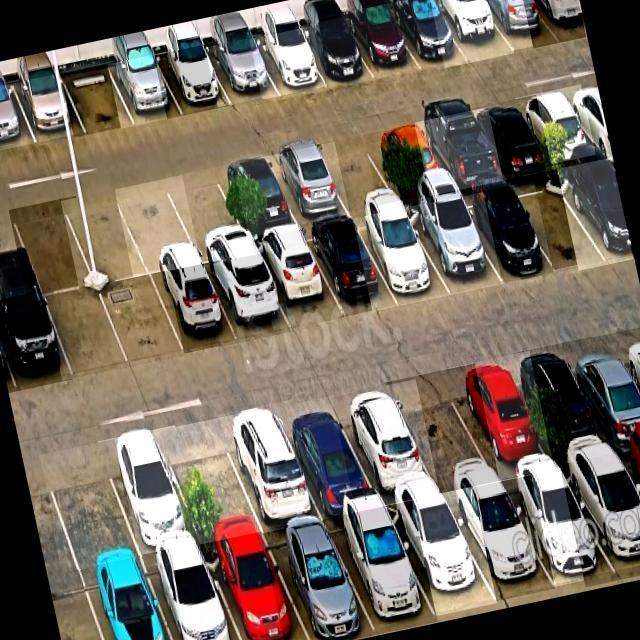empty: (386, 370, 499, 492), (158, 422, 262, 543), (40, 442, 139, 568), (506, 170, 607, 269), (163, 167, 252, 263), (60, 190, 149, 284), (115, 180, 200, 274), (9, 200, 94, 293), (98, 275, 184, 366), (44, 286, 128, 377), (313, 136, 397, 211), (60, 64, 135, 133)
occupied: (324, 507, 437, 635), (385, 496, 497, 615), (262, 521, 374, 640), (502, 469, 615, 586), (444, 481, 555, 600), (217, 404, 321, 529), (447, 358, 554, 479), (331, 385, 439, 502), (98, 431, 200, 554), (275, 398, 378, 516), (514, 344, 615, 464), (201, 533, 309, 640), (560, 453, 640, 579), (454, 187, 552, 282), (404, 199, 502, 294), (252, 229, 343, 331), (143, 545, 240, 640), (303, 218, 397, 316), (353, 209, 450, 302), (563, 336, 640, 451), (557, 160, 633, 262), (151, 265, 239, 353), (81, 557, 172, 640), (204, 255, 291, 341), (0, 293, 72, 390), (415, 112, 503, 191), (214, 156, 299, 237), (266, 146, 349, 224), (364, 124, 449, 198), (469, 100, 551, 174), (516, 90, 596, 163), (343, 4, 420, 78), (387, 0, 467, 69), (296, 17, 373, 86), (431, 0, 513, 63), (154, 48, 231, 115), (108, 55, 182, 124), (12, 73, 85, 142), (249, 30, 325, 95), (205, 40, 277, 104), (480, 0, 559, 50), (0, 84, 35, 150), (532, 0, 586, 41)
